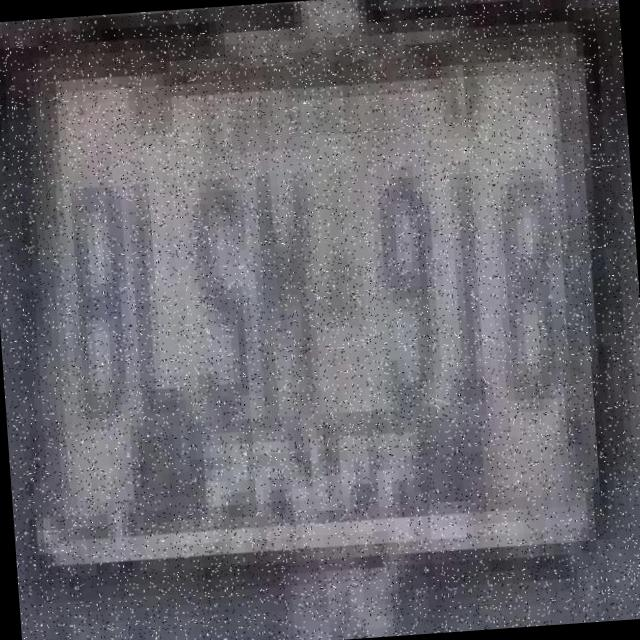LicensePlate: (5, 13, 628, 617)
